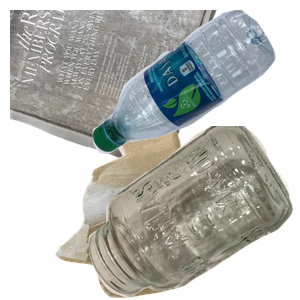glass: (86, 126, 300, 300)
paper: (10, 10, 222, 176)
plastic: (90, 10, 300, 156)
trash: (53, 121, 239, 300)
